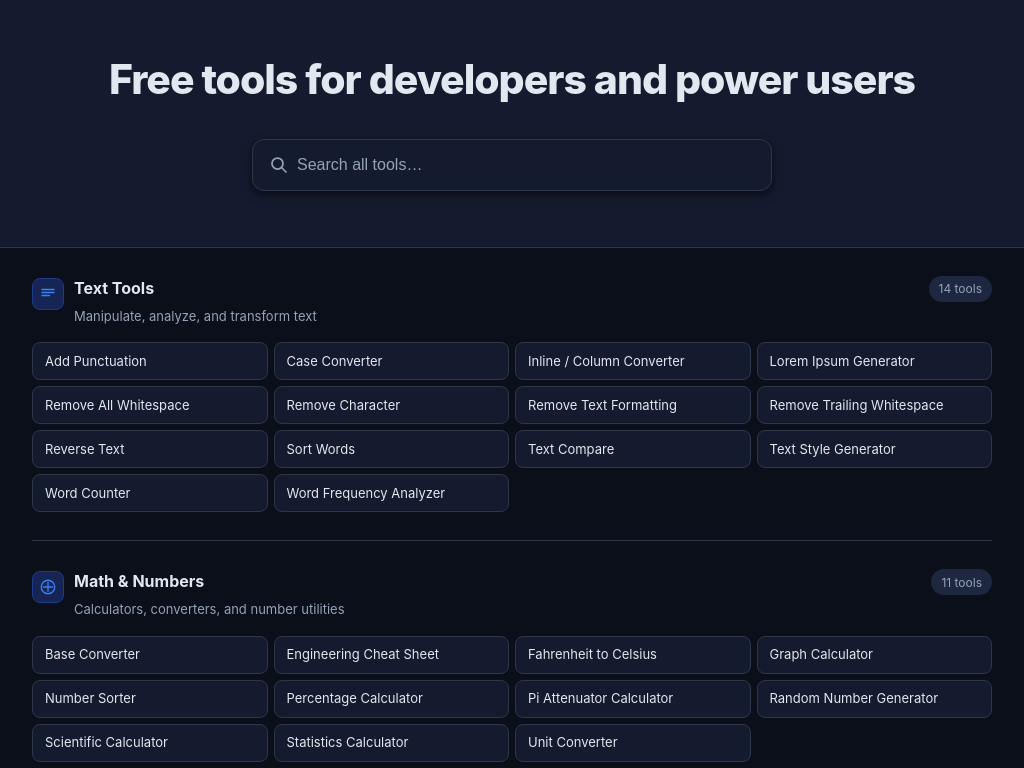
Home page › search shows results matching query
This screenshot has width=1024, height=768.
Type "json" into the search field labelled "Search all tools" at (526, 165), box [297,156,755,174]
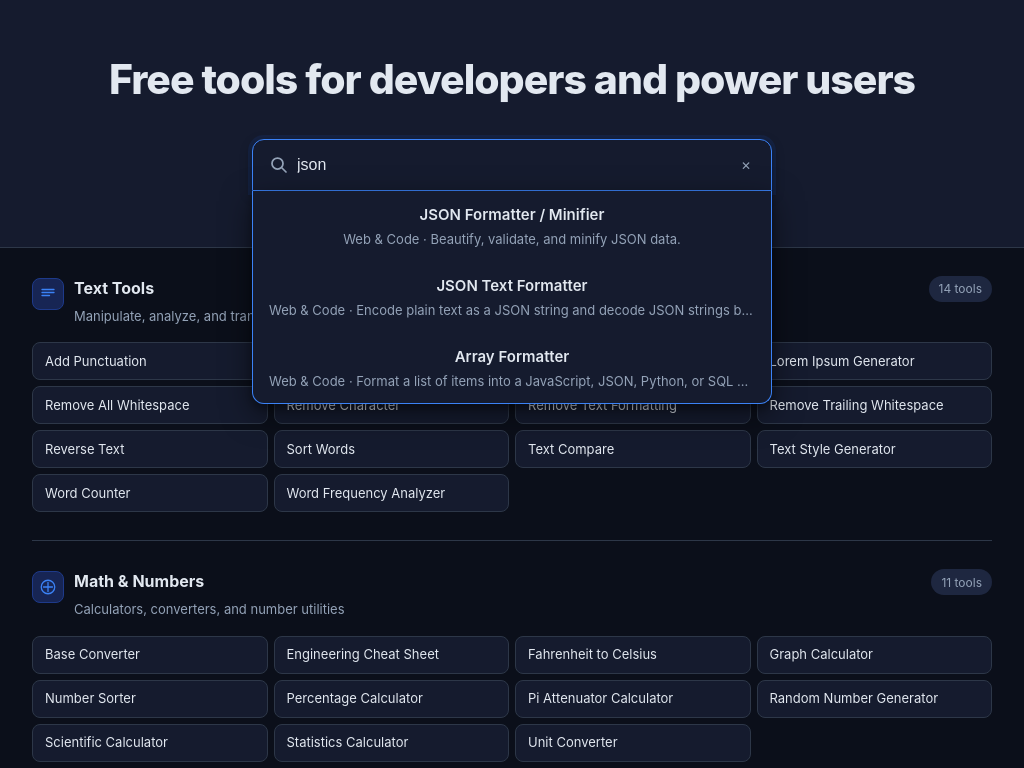
Check: the text "JSON Formatter / Minifier" is shown, box [420,205,604,224]
